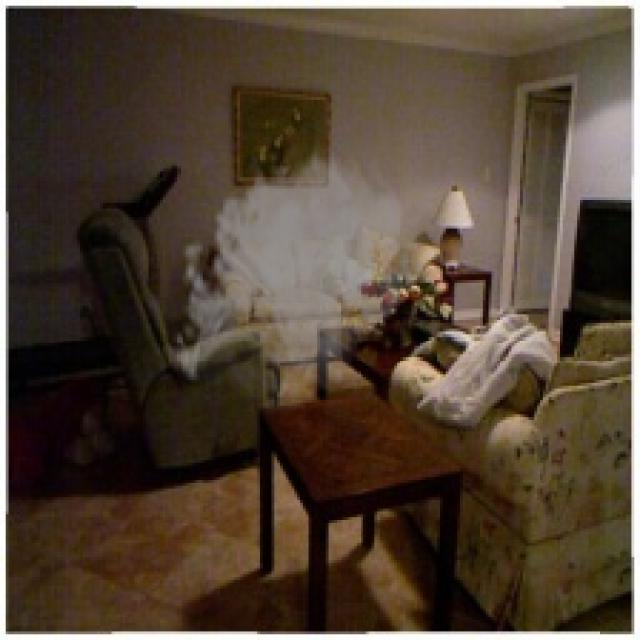Smoke: (168, 143, 428, 420)
